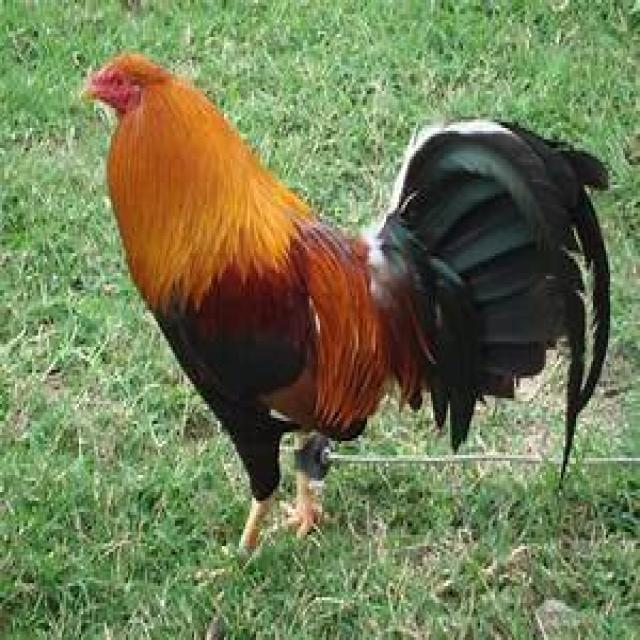hen: (77, 51, 610, 558)
